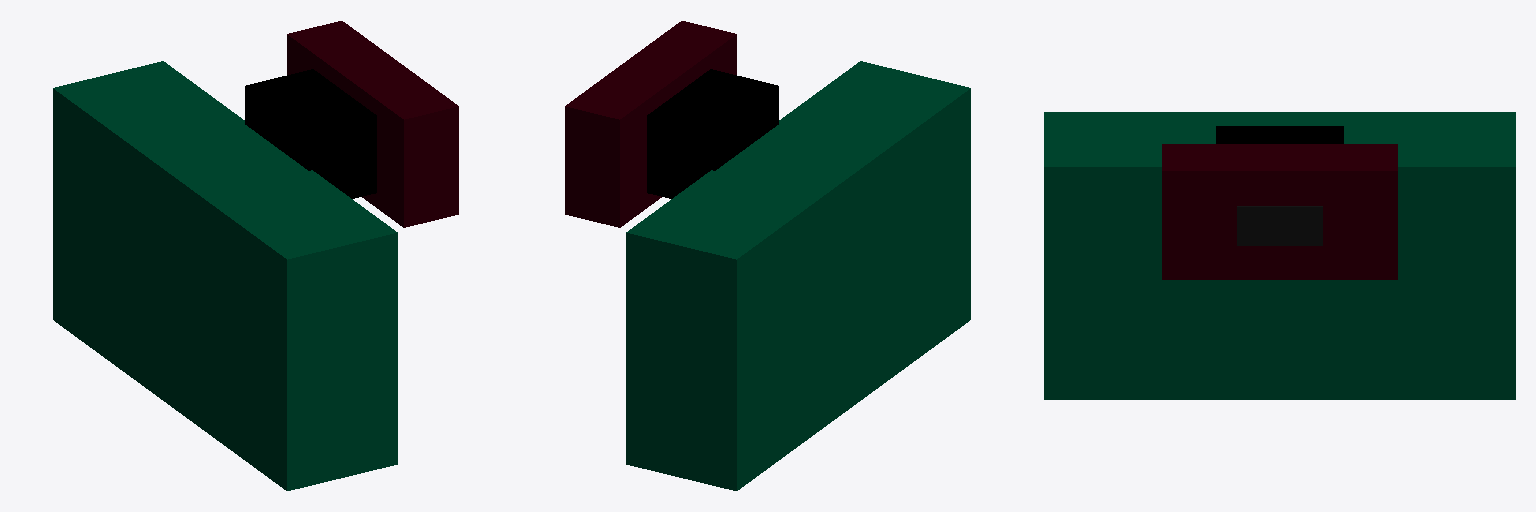
The robot description file, URDF, robot "thymioid":
<?xml version="1.0" ?>
<!-- =================================================================================== -->
<!-- |    This document was autogenerated by xacro from thymioid.urdf.xacro            | -->
<!-- |    EDITING THIS FILE BY HAND IS NOT RECOMMENDED                                 | -->
<!-- =================================================================================== -->
<robot name="thymioid" xmlns:xacro="http://ros.org/wiki/xacro">
  <link name="base_link">
    <visual>
      <geometry>
        <mesh filename="package://thymio_driver/models/meshes/thymio.dae"/>
      </geometry>
    </visual>
  </link>
  <link name="proximity_center_link"/>
  <link name="proximity_center_left_link"/>
  <link name="proximity_center_right_link"/>
  <link name="proximity_left_link"/>
  <link name="proximity_right_link"/>
  <link name="proximity_rear_left_link"/>
  <link name="proximity_rear_right_link"/>
  <link name="ground_left_link"/>
  <link name="ground_right_link"/>
  <joint name="proximity_center_joint" type="fixed">
    <origin rpy="0 0 0" xyz="0.08 0 0.034"/>
    <parent link="base_link"/>
    <child link="proximity_center_link"/>
  </joint>
  <joint name="proximity_center_left_joint" type="fixed">
    <origin rpy="0 0 0.32" xyz="0.0759 0.0252 0.034"/>
    <parent link="base_link"/>
    <child link="proximity_center_left_link"/>
  </joint>
  <joint name="proximity_left_joint" type="fixed">
    <origin rpy="0 0 0.64" xyz="0.0642 0.0478 0.034"/>
    <parent link="base_link"/>
    <child link="proximity_left_link"/>
  </joint>
  <joint name="proximity_center_right_joint" type="fixed">
    <origin rpy="0 0 -0.32" xyz="0.0759 -0.0252 0.034"/>
    <parent link="base_link"/>
    <child link="proximity_center_right_link"/>
  </joint>
  <joint name="proximity_right_joint" type="fixed">
    <origin rpy="0 0 -0.64" xyz="0.0642 -0.0478 0.034"/>
    <parent link="base_link"/>
    <child link="proximity_right_link"/>
  </joint>
  <joint name="proximity_rear_left_joint" type="fixed">
    <origin rpy="0 0 3.1416" xyz="-0.03 0.03 0.034"/>
    <parent link="base_link"/>
    <child link="proximity_rear_left_link"/>
  </joint>
  <joint name="proximity_rear_right_joint" type="fixed">
    <origin rpy="0 0 3.1416" xyz="-0.03 -0.03 0.034"/>
    <parent link="base_link"/>
    <child link="proximity_rear_right_link"/>
  </joint>
  <joint name="ground_right_joint" type="fixed">
    <origin rpy="0 1.5708 0" xyz="0.07157 -0.01155 0.008"/>
    <parent link="base_link"/>
    <child link="ground_right_link"/>
  </joint>
  <joint name="ground_left_joint" type="fixed">
    <origin rpy="0 1.5708 0" xyz="0.07157 0.01155 0.008"/>
    <parent link="base_link"/>
    <child link="ground_left_link"/>
  </joint>
  <link name="trunk_link">
    <visual>
      <geometry>
        <box size="0.03 0.11 0.06"/>
      </geometry>
      <material name="odroid">
        <color rgba="0 0.3 0.2 0.4"/>
      </material>
    </visual>
  </link>
  <link name="camera_support_link">
    <visual>
      <geometry>
        <box size="0.022 0.03 0.02"/>
      </geometry>
      <material name="Black">
        <color rgba="0 0.0 0.0 0.4"/>
      </material>
    </visual>
  </link>
  <link name="camera_body_link">
    <visual>
      <geometry>
        <box size="0.015 0.055 0.028"/>
      </geometry>
      <material name="Red">
        <color rgba="0.2 0.0 0.05 1.0"/>
      </material>
    </visual>
  </link>
  <link name="camera_link">
    <visual>
      <geometry>
        <box size="0.016 0.02 0.01"/>
      </geometry>
      <material name="Grey">
        <color rgba="0.1 0.1 0.1 1.0"/>
      </material>
    </visual>
  </link>
  <joint name="base_trunk_joint" type="fixed">
    <origin rpy="0 0 0" xyz="0.0 0.0 0.08"/>
    <parent link="base_link"/>
    <child link="trunk_link"/>
  </joint>
  <joint name="trunk_camera_joint" type="fixed">
    <origin rpy="0 0 0" xyz="0.025 0 0.03"/>
    <parent link="trunk_link"/>
    <child link="camera_support_link"/>
  </joint>
  <joint name="camera_body_support_joint" type="fixed">
    <origin rpy="0 0 0" xyz="0.015 0 0"/>
    <parent link="camera_support_link"/>
    <child link="camera_body_link"/>
  </joint>
  <joint name="camera_frame_joint" type="fixed">
    <origin rpy="0 0 0" xyz="0.0 0 0"/>
    <parent link="camera_body_link"/>
    <child link="camera_link"/>
  </joint>
</robot>

--- What the picture shows (computed from the rendered views, not written in the file) ---
The picture shows the robot from 3 angles, left to right: view 1: azimuth 30°, elevation 25°; view 2: azimuth 150°, elevation 25°; view 3: azimuth 270°, elevation 25°; orthographic projection.
Model thymioid with 14 links and 13 joints (13 fixed), rooted at base_link, posed all joints at 0.
Links seen in each view (by area): view 1: trunk_link, camera_body_link, camera_support_link; view 2: trunk_link, camera_body_link, camera_support_link; view 3: trunk_link, camera_body_link, camera_link, camera_support_link.
Link boxes in pixels (<box>): trunk_link: <box>53,61,397,490</box>; camera_body_link: <box>287,21,458,227</box>; camera_support_link: <box>245,69,376,198</box>; trunk_link: <box>626,61,970,490</box>; camera_body_link: <box>565,21,736,227</box>; camera_support_link: <box>647,69,778,198</box>; trunk_link: <box>1044,112,1515,399</box>; camera_body_link: <box>1162,144,1397,279</box>; camera_link: <box>1237,206,1322,245</box>; camera_support_link: <box>1216,126,1343,143</box>.
Bounding box of the posed robot: 0.063 × 0.11 × 0.074 m (x, y, z).
0 mesh visuals loaded from 1 distinct referenced files (none loaded); not drawn: 1 (reference not matched to a file when rendering).